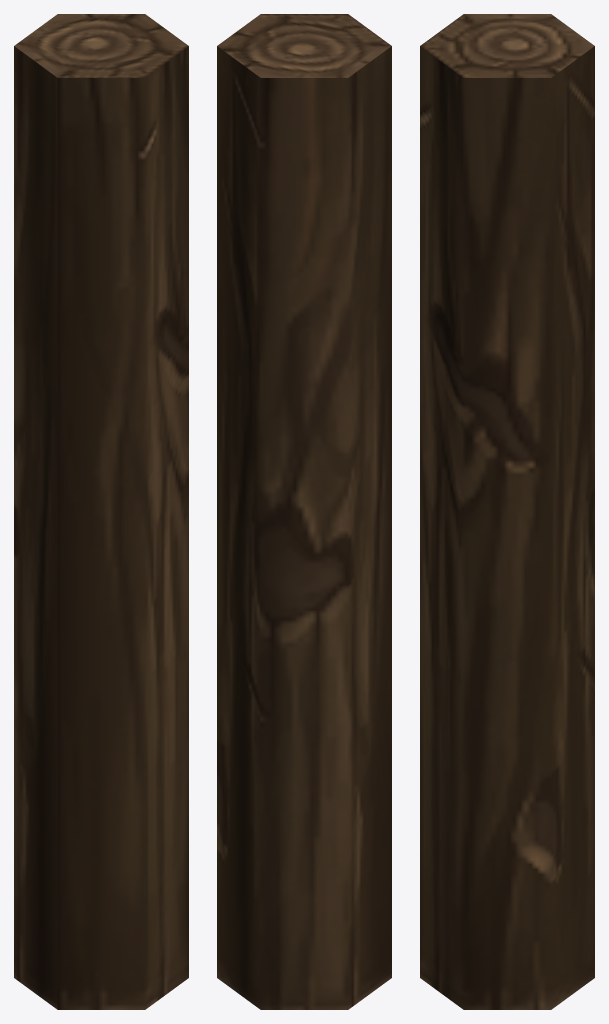
The model's file is pole_02.fbx.
3 renders of one model, left to right at view 1: azimuth 30°, elevation 25°; view 2: azimuth 150°, elevation 25°; view 3: azimuth 270°, elevation 25°, orthographic.
Visible parts, largest first — view 1: pole_02; view 2: pole_02; view 3: pole_02.
Part boxes in pixels (bbox=[...]): pole_02: bbox=[14, 14, 188, 1009]; pole_02: bbox=[217, 14, 391, 1009]; pole_02: bbox=[420, 14, 594, 1009].
Size of the model in its own units: 34.64 by 235 by 40.
